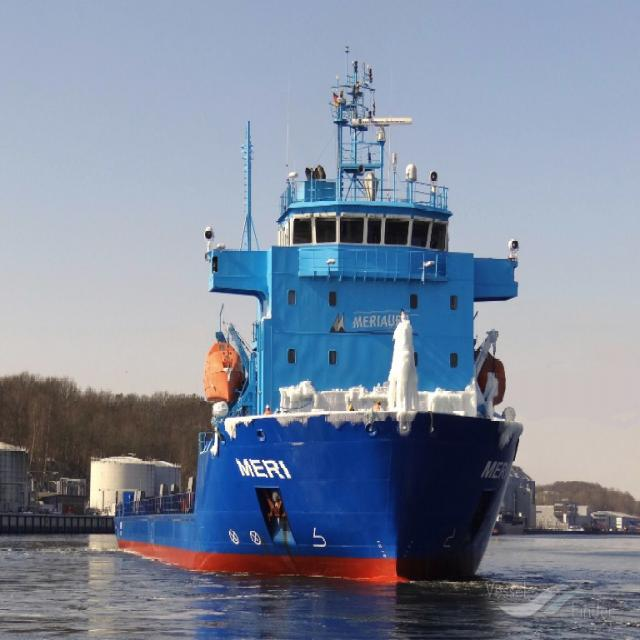OCR: (229, 444, 293, 484), (348, 308, 410, 333)
